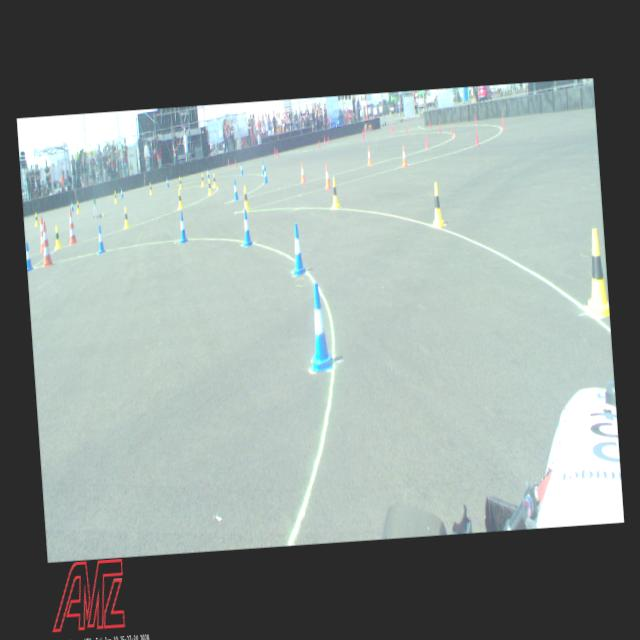blue_cone: (306, 281, 332, 371), (290, 222, 306, 276), (240, 208, 252, 246), (96, 225, 105, 252), (178, 211, 186, 241), (26, 242, 32, 269), (232, 180, 238, 200), (262, 166, 268, 183), (70, 199, 74, 211), (261, 160, 264, 175), (120, 187, 123, 198), (166, 176, 169, 187), (206, 168, 209, 178), (240, 162, 242, 174)
large_orange_cone: (40, 220, 54, 266), (66, 208, 76, 245), (37, 215, 44, 252)
orange_cone: (323, 165, 331, 188), (299, 162, 305, 182), (401, 144, 406, 167), (366, 146, 372, 164)
yellow_cone: (582, 228, 610, 318), (430, 182, 443, 226), (330, 176, 340, 208), (242, 185, 250, 212), (53, 225, 61, 248), (123, 207, 129, 228), (176, 189, 182, 208), (206, 178, 212, 195), (212, 172, 216, 188), (34, 212, 38, 226), (200, 172, 204, 186), (113, 190, 117, 203), (76, 200, 80, 212), (148, 182, 152, 194), (178, 176, 182, 188)
